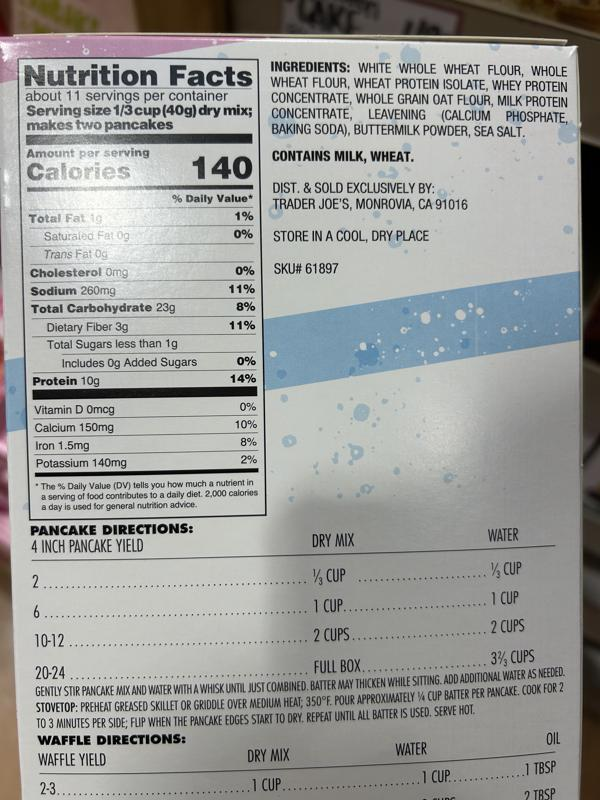ingredients: (267, 58, 571, 140)
